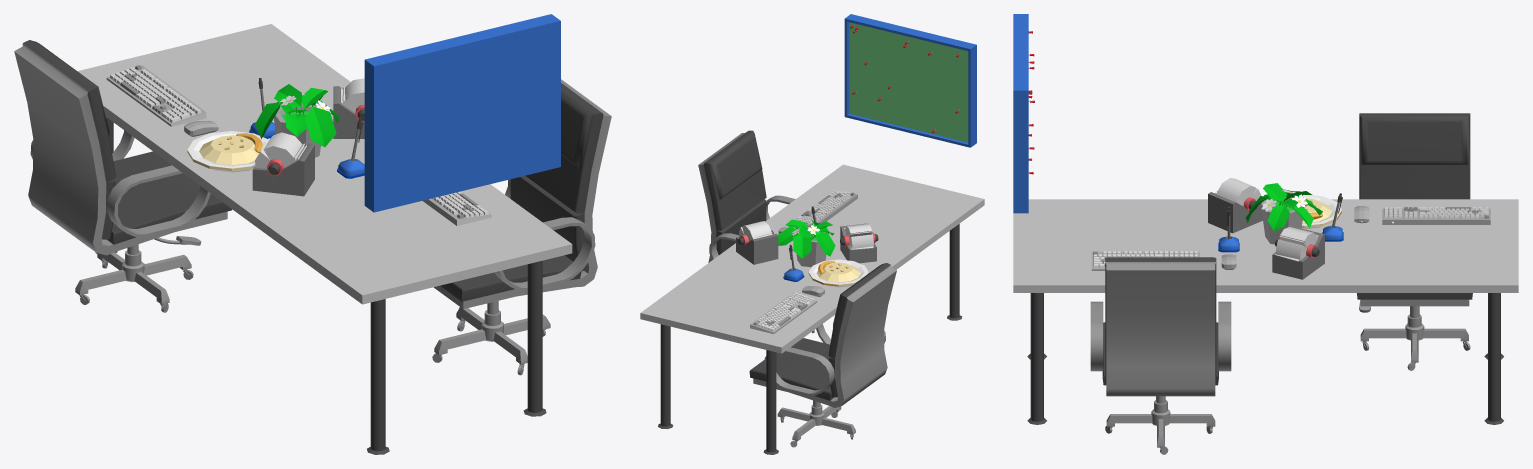
File: OficinasObjetos03.fbx
3 views of the same model, side by side, from view 1: azimuth 30°, elevation 25°; view 2: azimuth 150°, elevation 25°; view 3: azimuth 270°, elevation 25° (orthographic). The views are drawn at different scales.
Visible parts, largest first — view 1: OficinasObjetos03; view 2: OficinasObjetos03; view 3: OficinasObjetos03.
Boxes of the visible parts, x1,y1,x2,y2 form: OficinasObjetos03: [14, 14, 611, 454]; OficinasObjetos03: [640, 14, 984, 454]; OficinasObjetos03: [1013, 14, 1518, 454].
Size of the model in its own units: 220 by 220 by 301.
